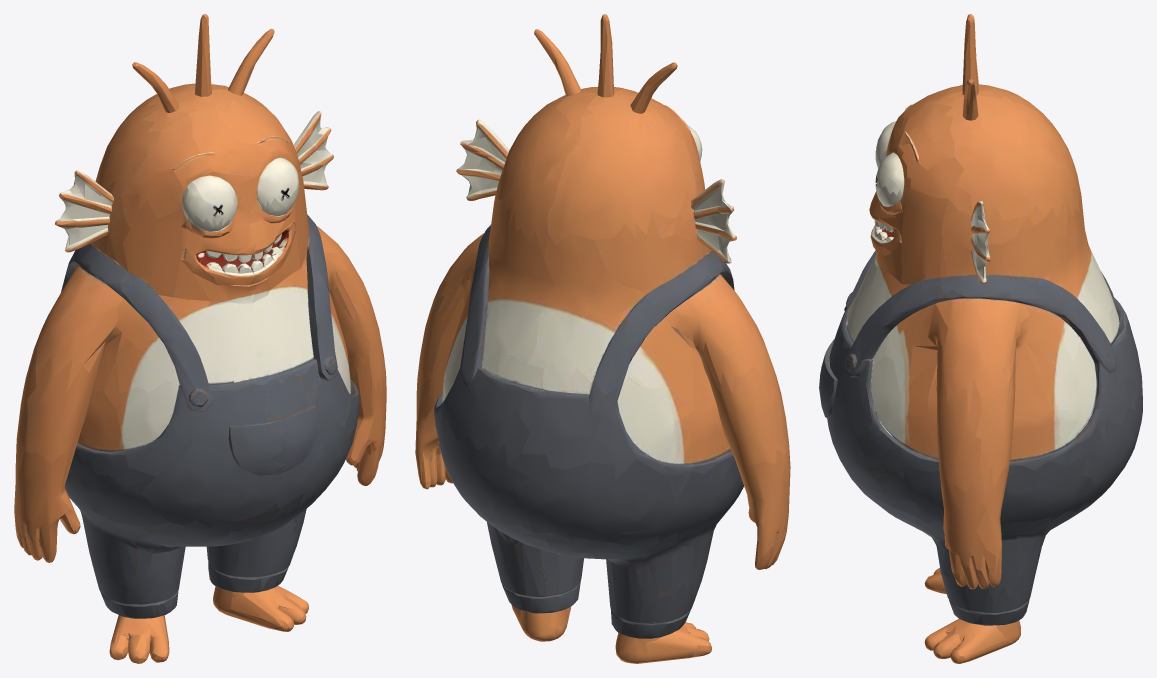
Rendered from plutonian-b.glb.
3 views of the same model, side by side, from view 1: azimuth 30°, elevation 25°; view 2: azimuth 150°, elevation 25°; view 3: azimuth 270°, elevation 25° (orthographic). The views are drawn at different scales.
Size of the model in its own units: 1.16 by 1.9 by 0.9234.
1 material, 1 textured.
